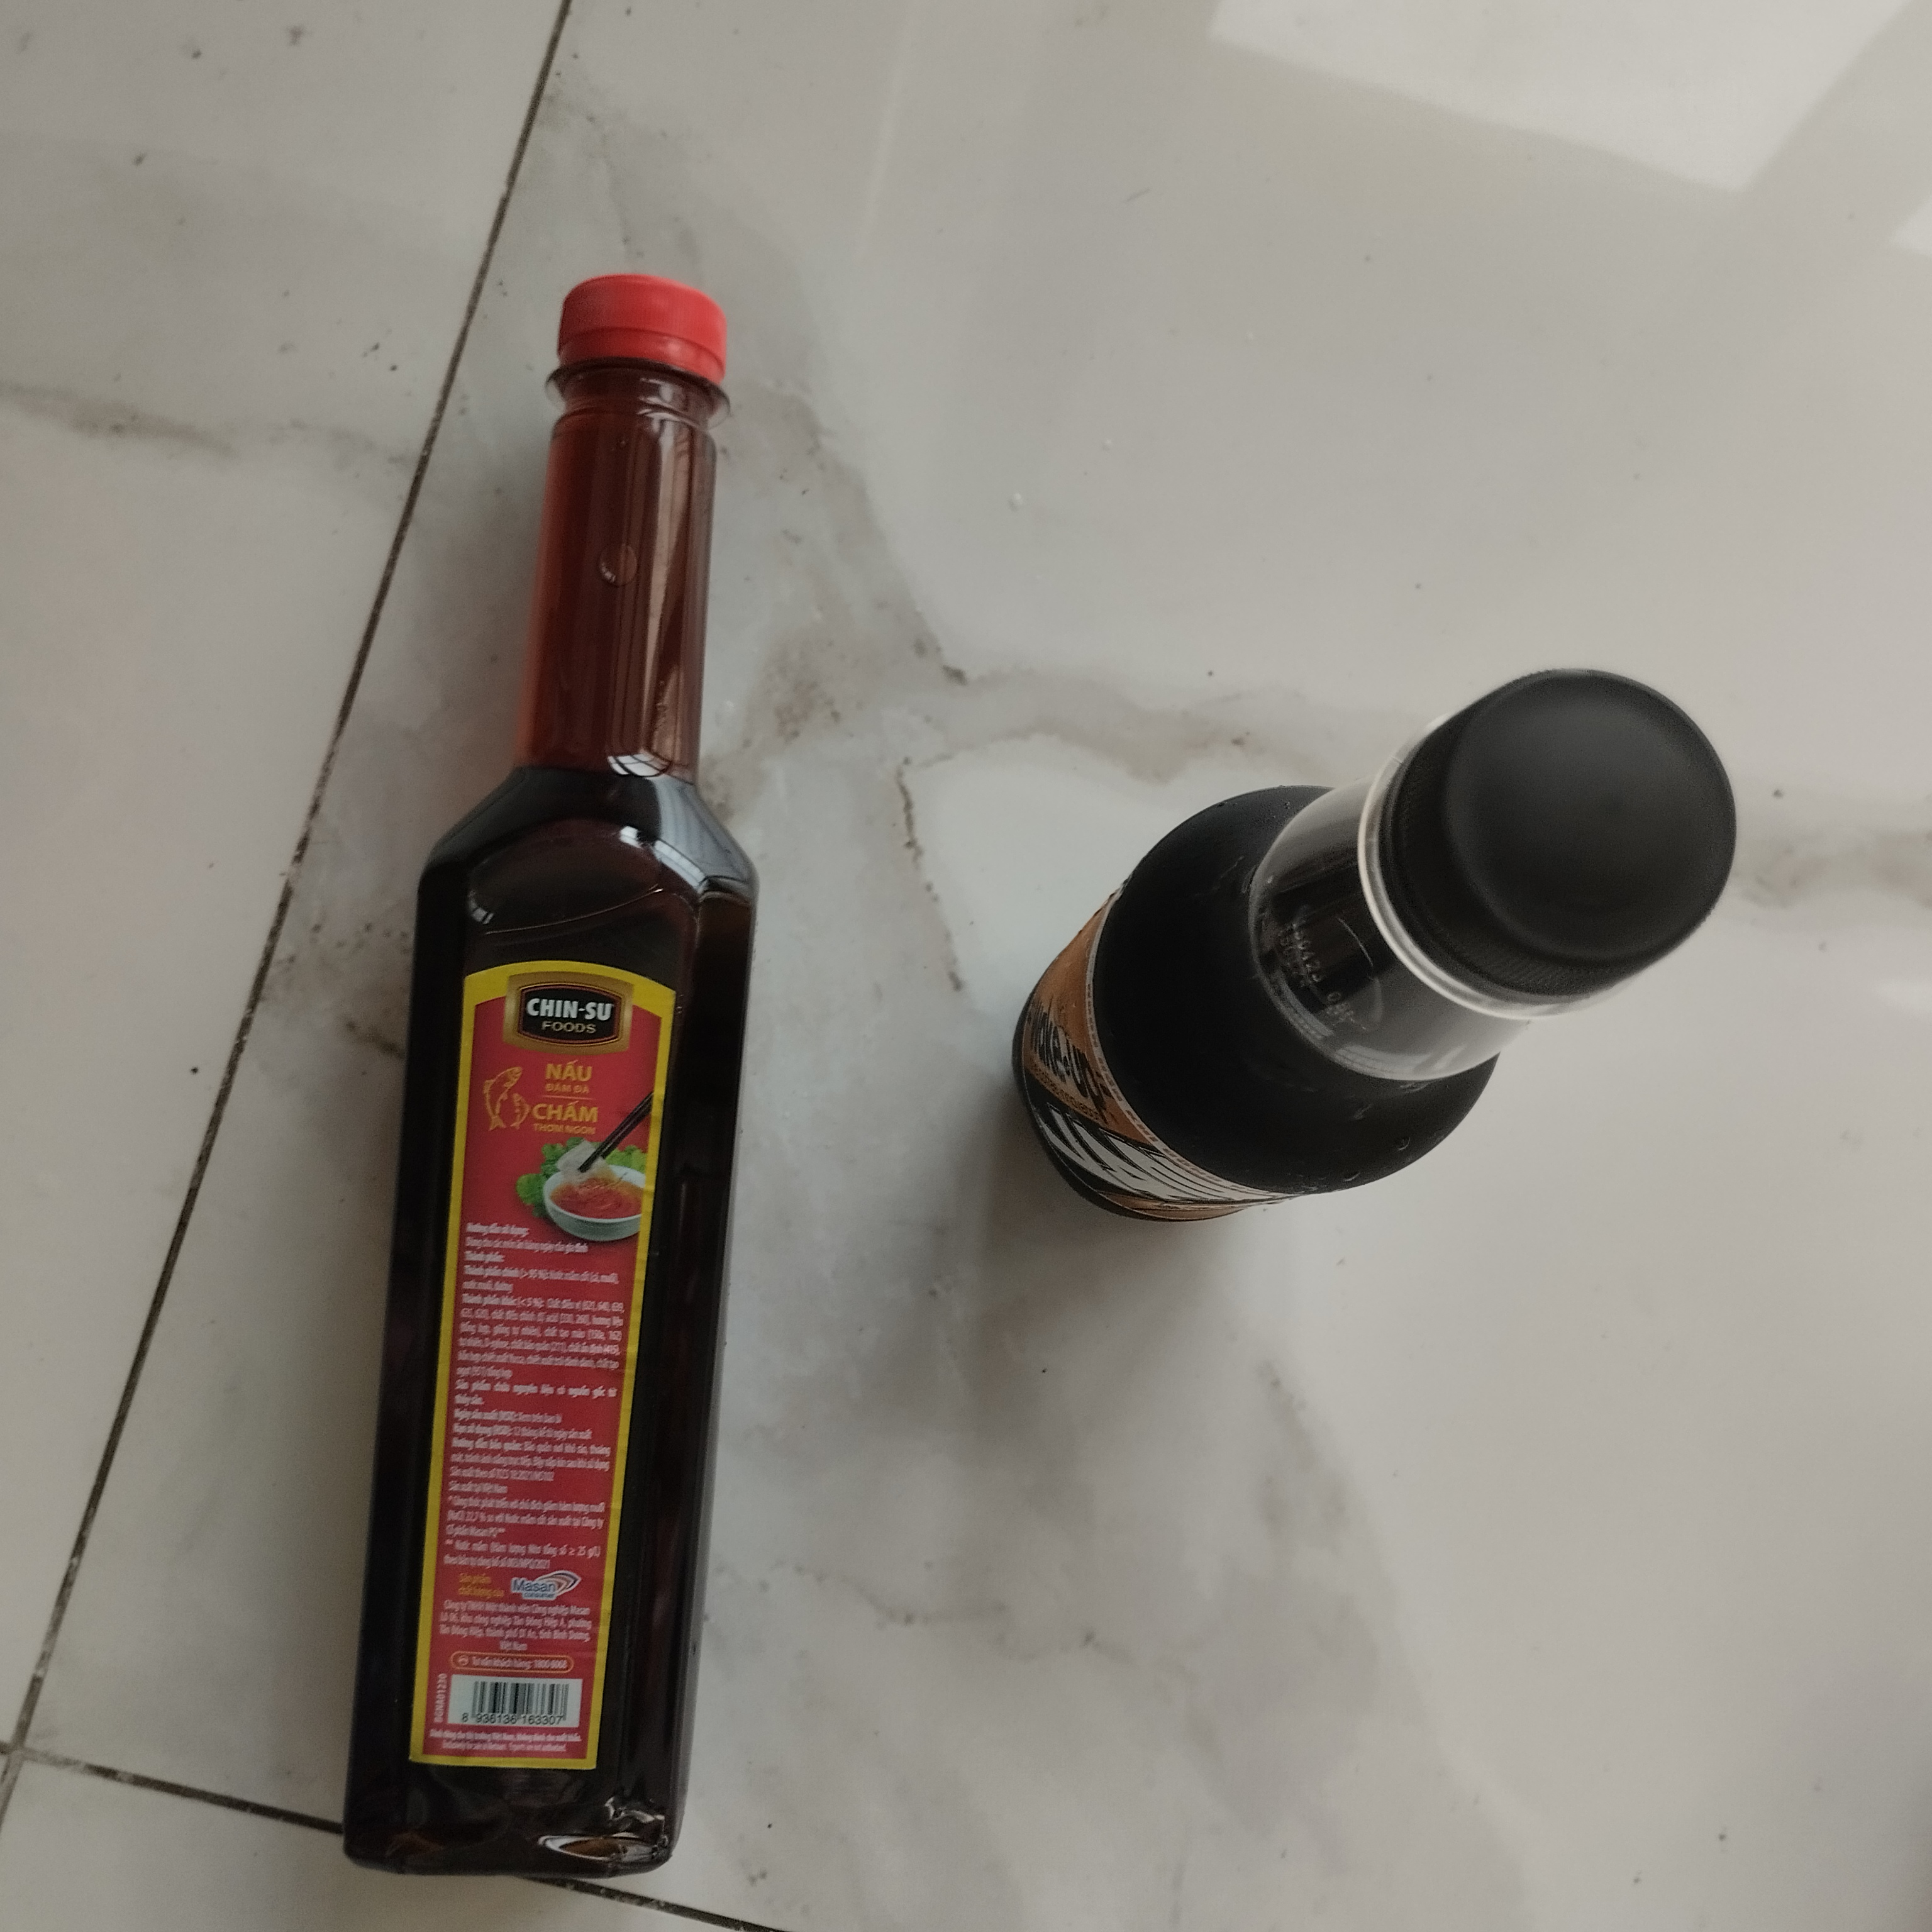247: (1016, 655, 1741, 1238)
Namngu: (340, 274, 775, 1886)
